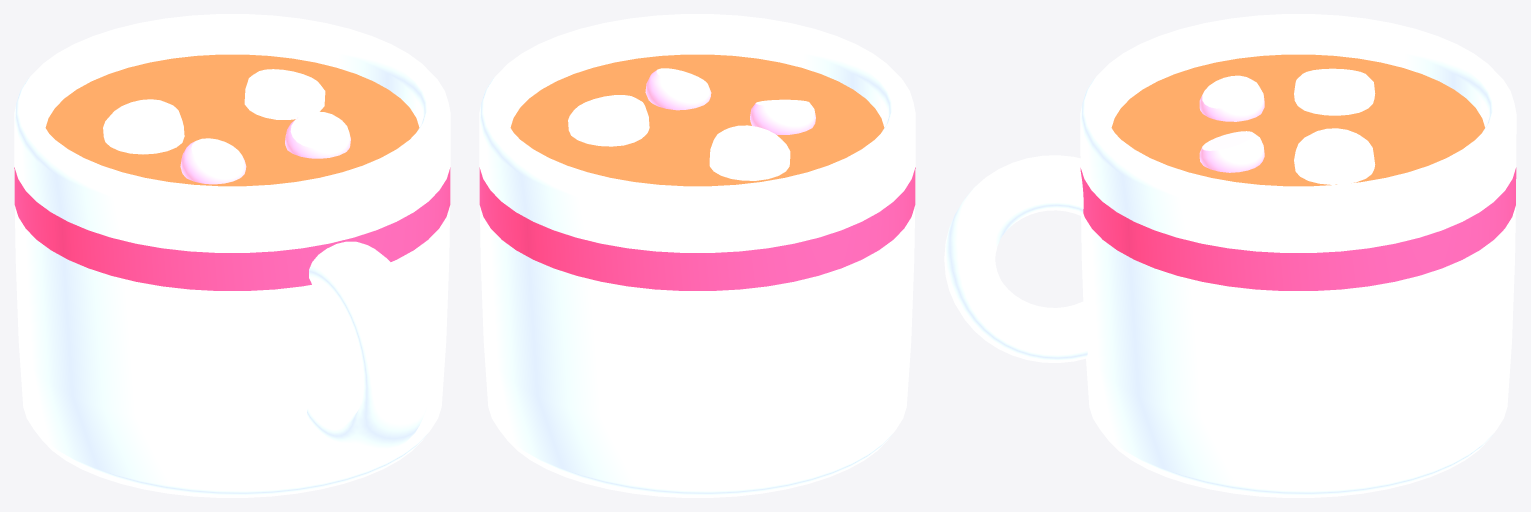
The picture shows the model from 3 angles, left to right: view 1: azimuth 30°, elevation 25°; view 2: azimuth 150°, elevation 25°; view 3: azimuth 270°, elevation 25°; orthographic projection.
Visible parts, largest first — view 1: Cup-whole; view 2: Cup-whole; view 3: Cup-whole.
Part boxes in pixels (left/top/right/bottom): Cup-whole: left=14, top=14, right=450, bottom=497; Cup-whole: left=479, top=14, right=915, bottom=497; Cup-whole: left=944, top=14, right=1516, bottom=497.
Size of the model in its own units: 0.0879 by 0.0703 by 0.1152.
